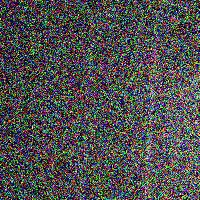scratches: (141, 16, 166, 200), (77, 16, 102, 197), (46, 32, 67, 195)
